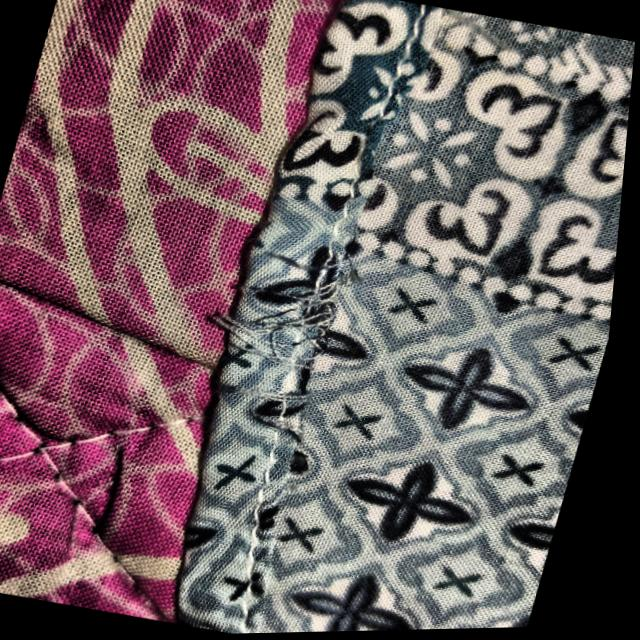Stitch: (232, 169, 417, 455)
